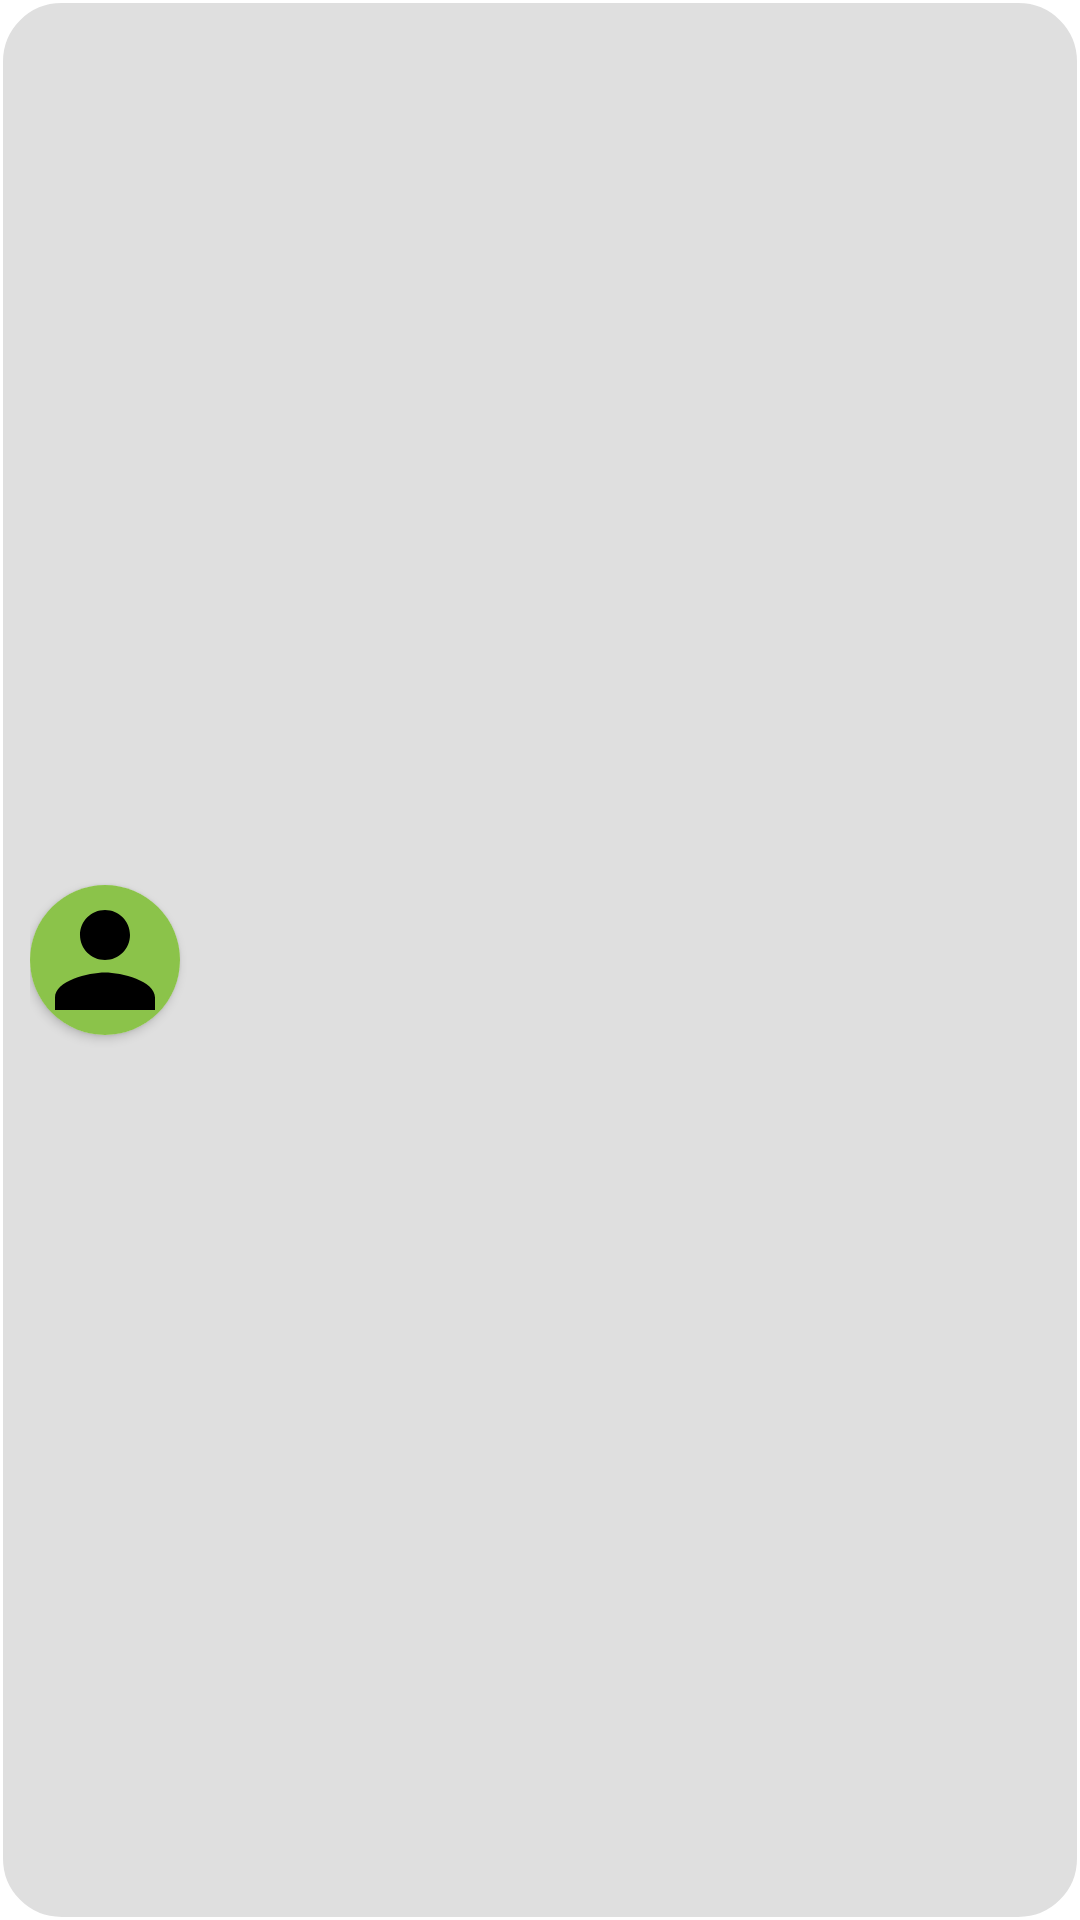

Icon bounding boxes for this 1080x1920 phone screenshot, format (x1, y1, x2, y2):
Contact Image: (30, 885, 180, 1035)
